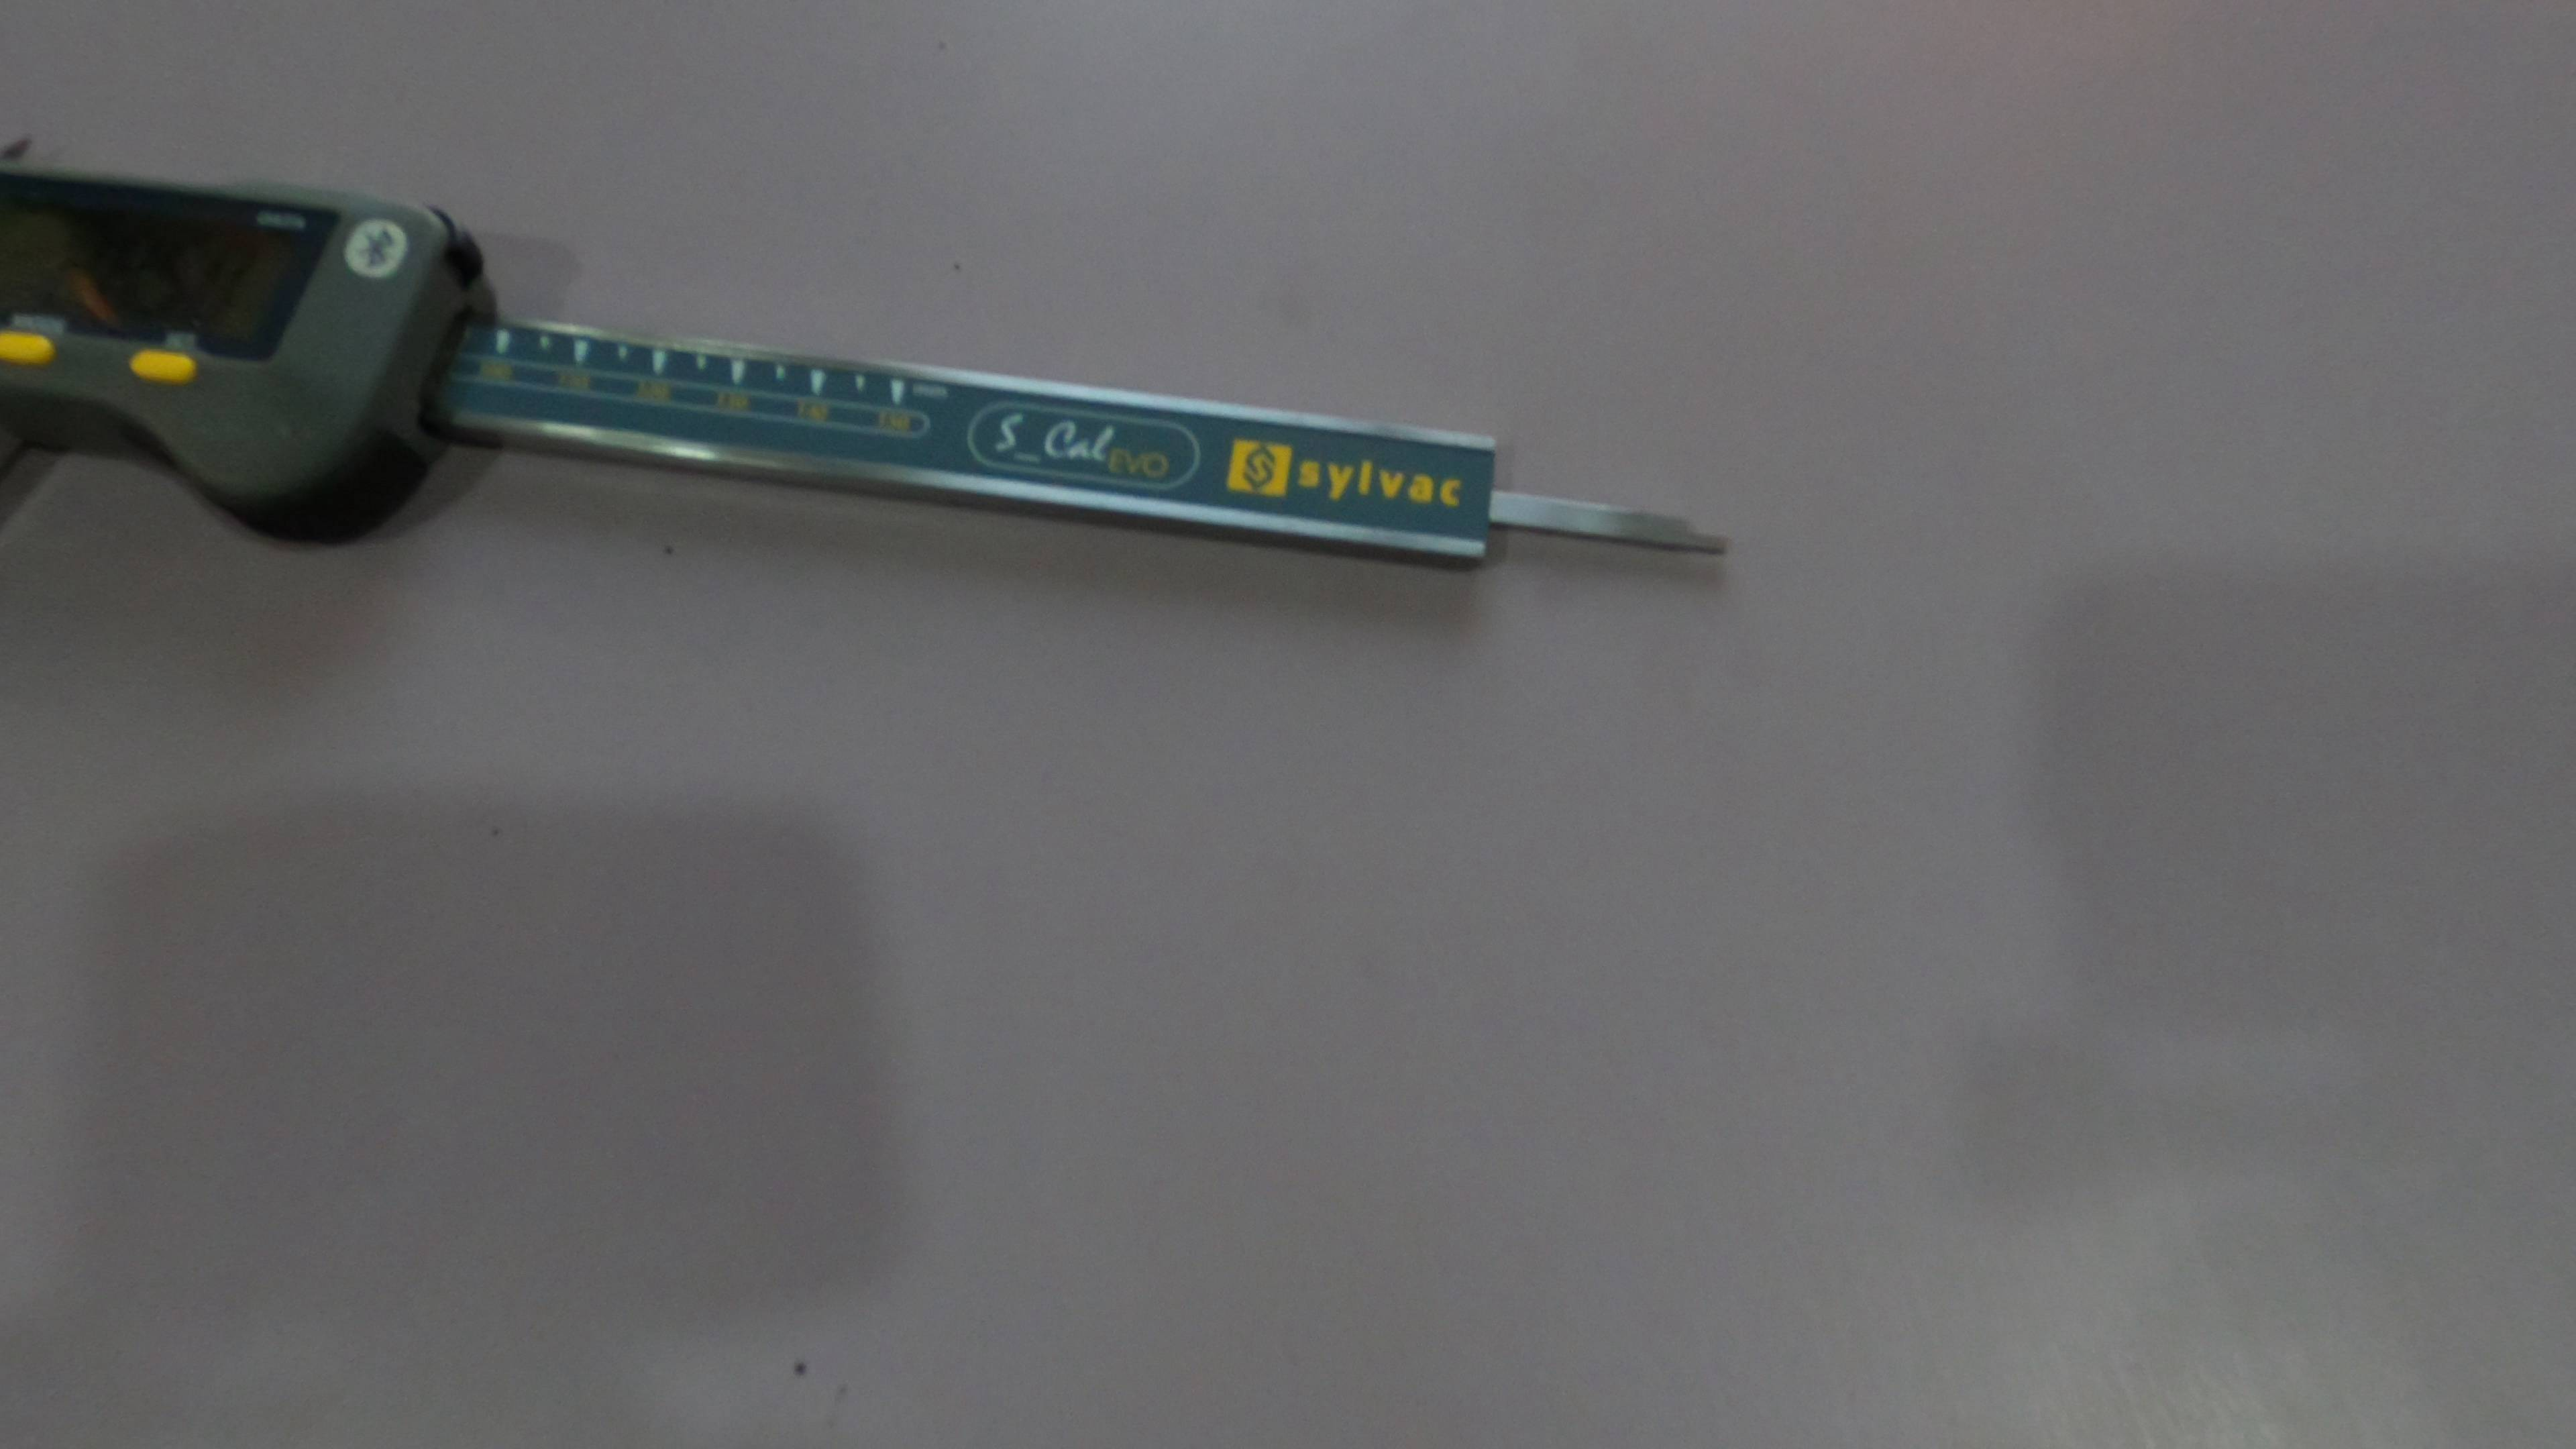vernier_caliper: (7, 127, 1752, 570)
